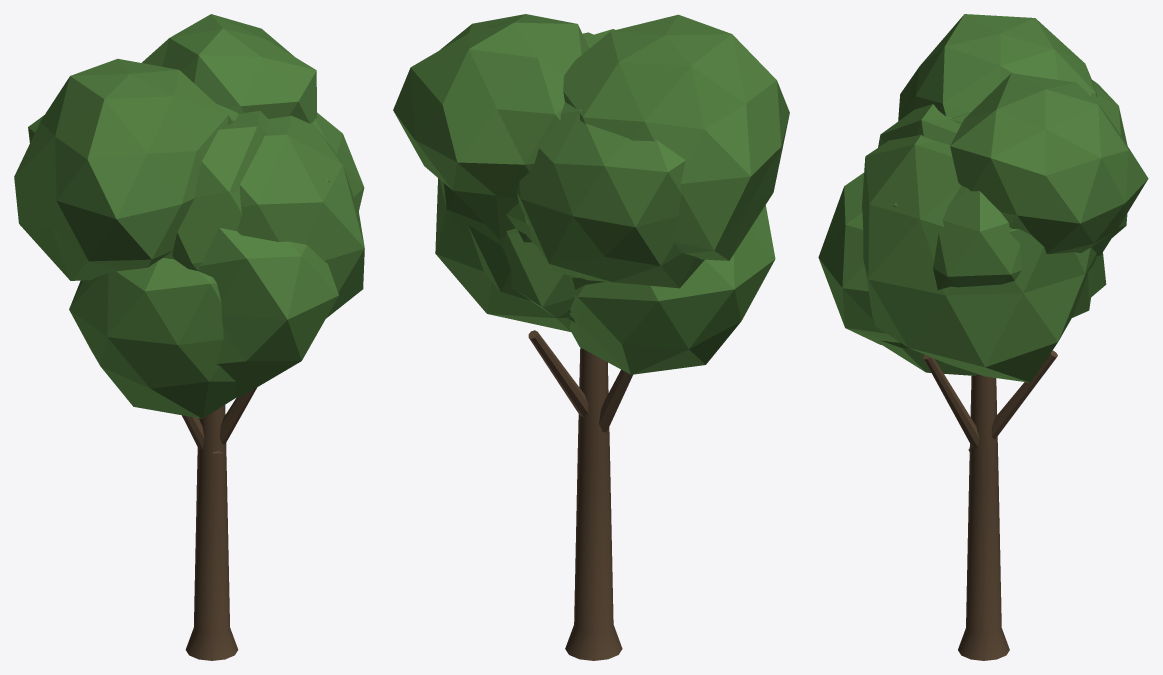
File: arvore.glb
3 renders of one model, left to right at view 1: azimuth 30°, elevation 25°; view 2: azimuth 150°, elevation 25°; view 3: azimuth 270°, elevation 25°, orthographic. The views are drawn at different scales.
Parts seen in each view (by area): view 1: p; view 2: p; view 3: p.
Part boxes in pixels (x1,y1,x2,y2): p: (14,14,364,660); p: (393,14,789,660); p: (818,14,1148,660).
Size of the model in its own units: 2.15 by 3.93 by 2.03.
